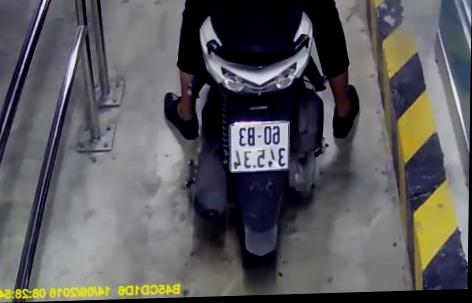License_Plate: (225, 119, 294, 177)
